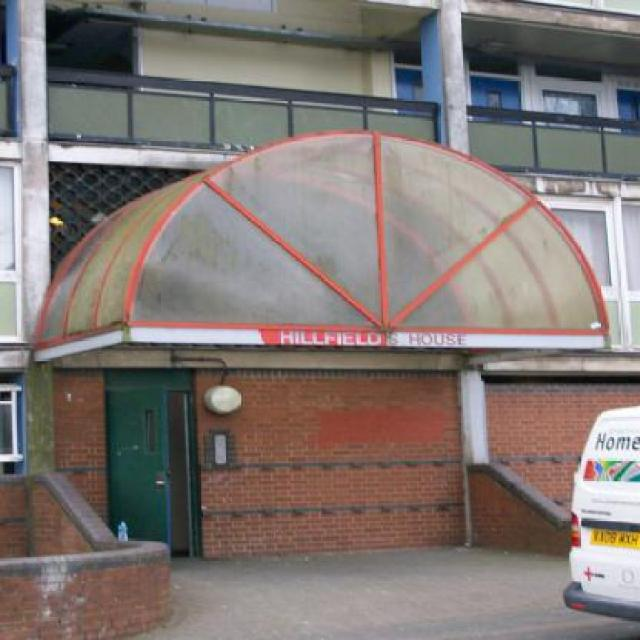truck: (560, 403, 640, 625)
